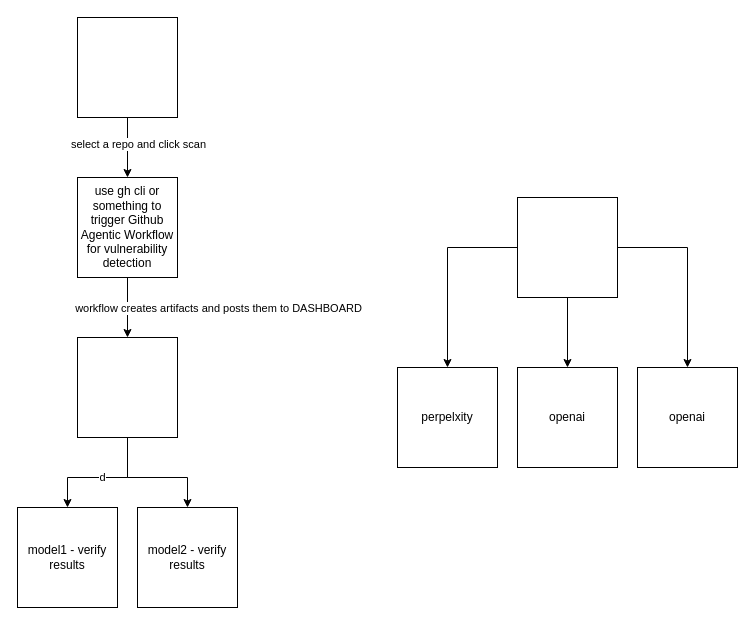
The diagram is 755 pixels wide and 625 high, and some of its shapes have lost their labels. The centre of each missing label's shape, as x and y in pixels:
claude main: point 567,247
DASHBOARD with Github Connector: point 127,67
STORE vulns in json/db/md something (LOCAL TO ACTION): point 127,387
